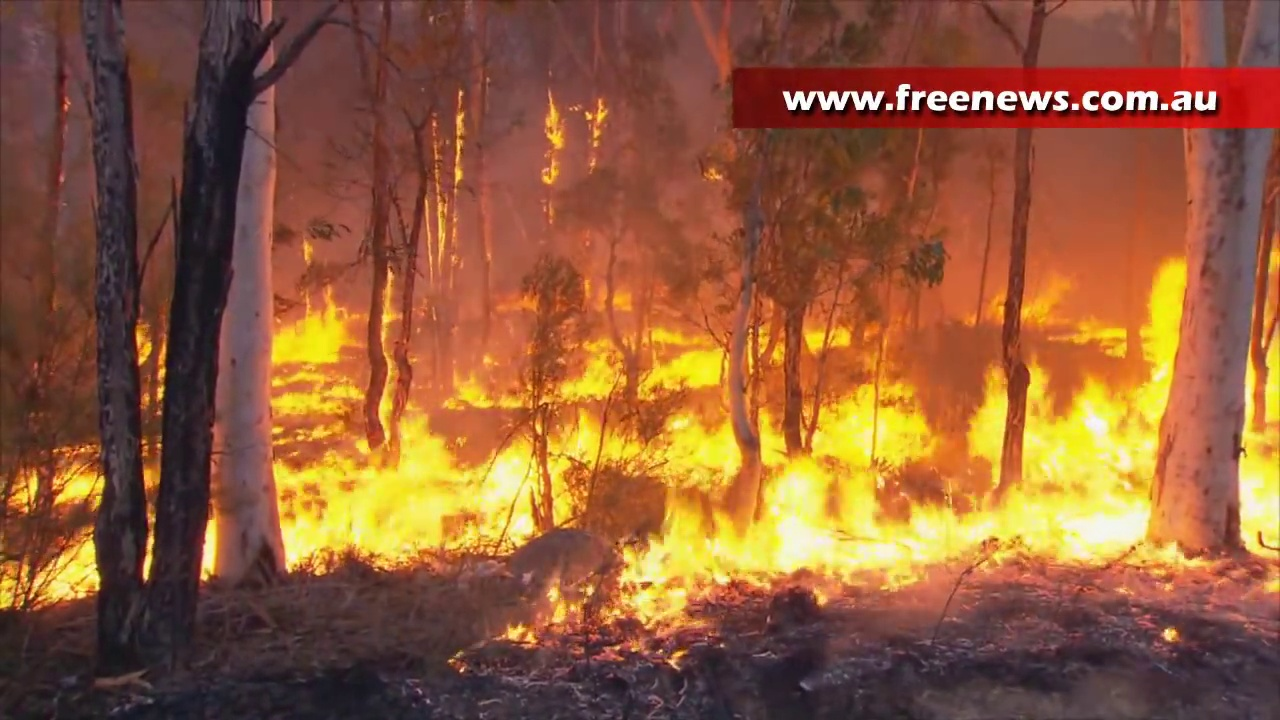fire: (574, 324, 940, 633), (952, 259, 1189, 564), (278, 449, 524, 569), (271, 311, 357, 423), (1239, 326, 1280, 555), (1, 552, 96, 606), (2, 477, 106, 513), (544, 109, 564, 150)
